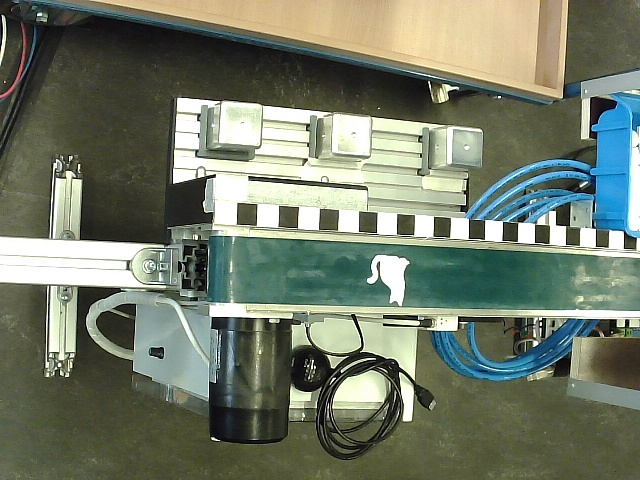cat: (366, 254, 411, 307)
